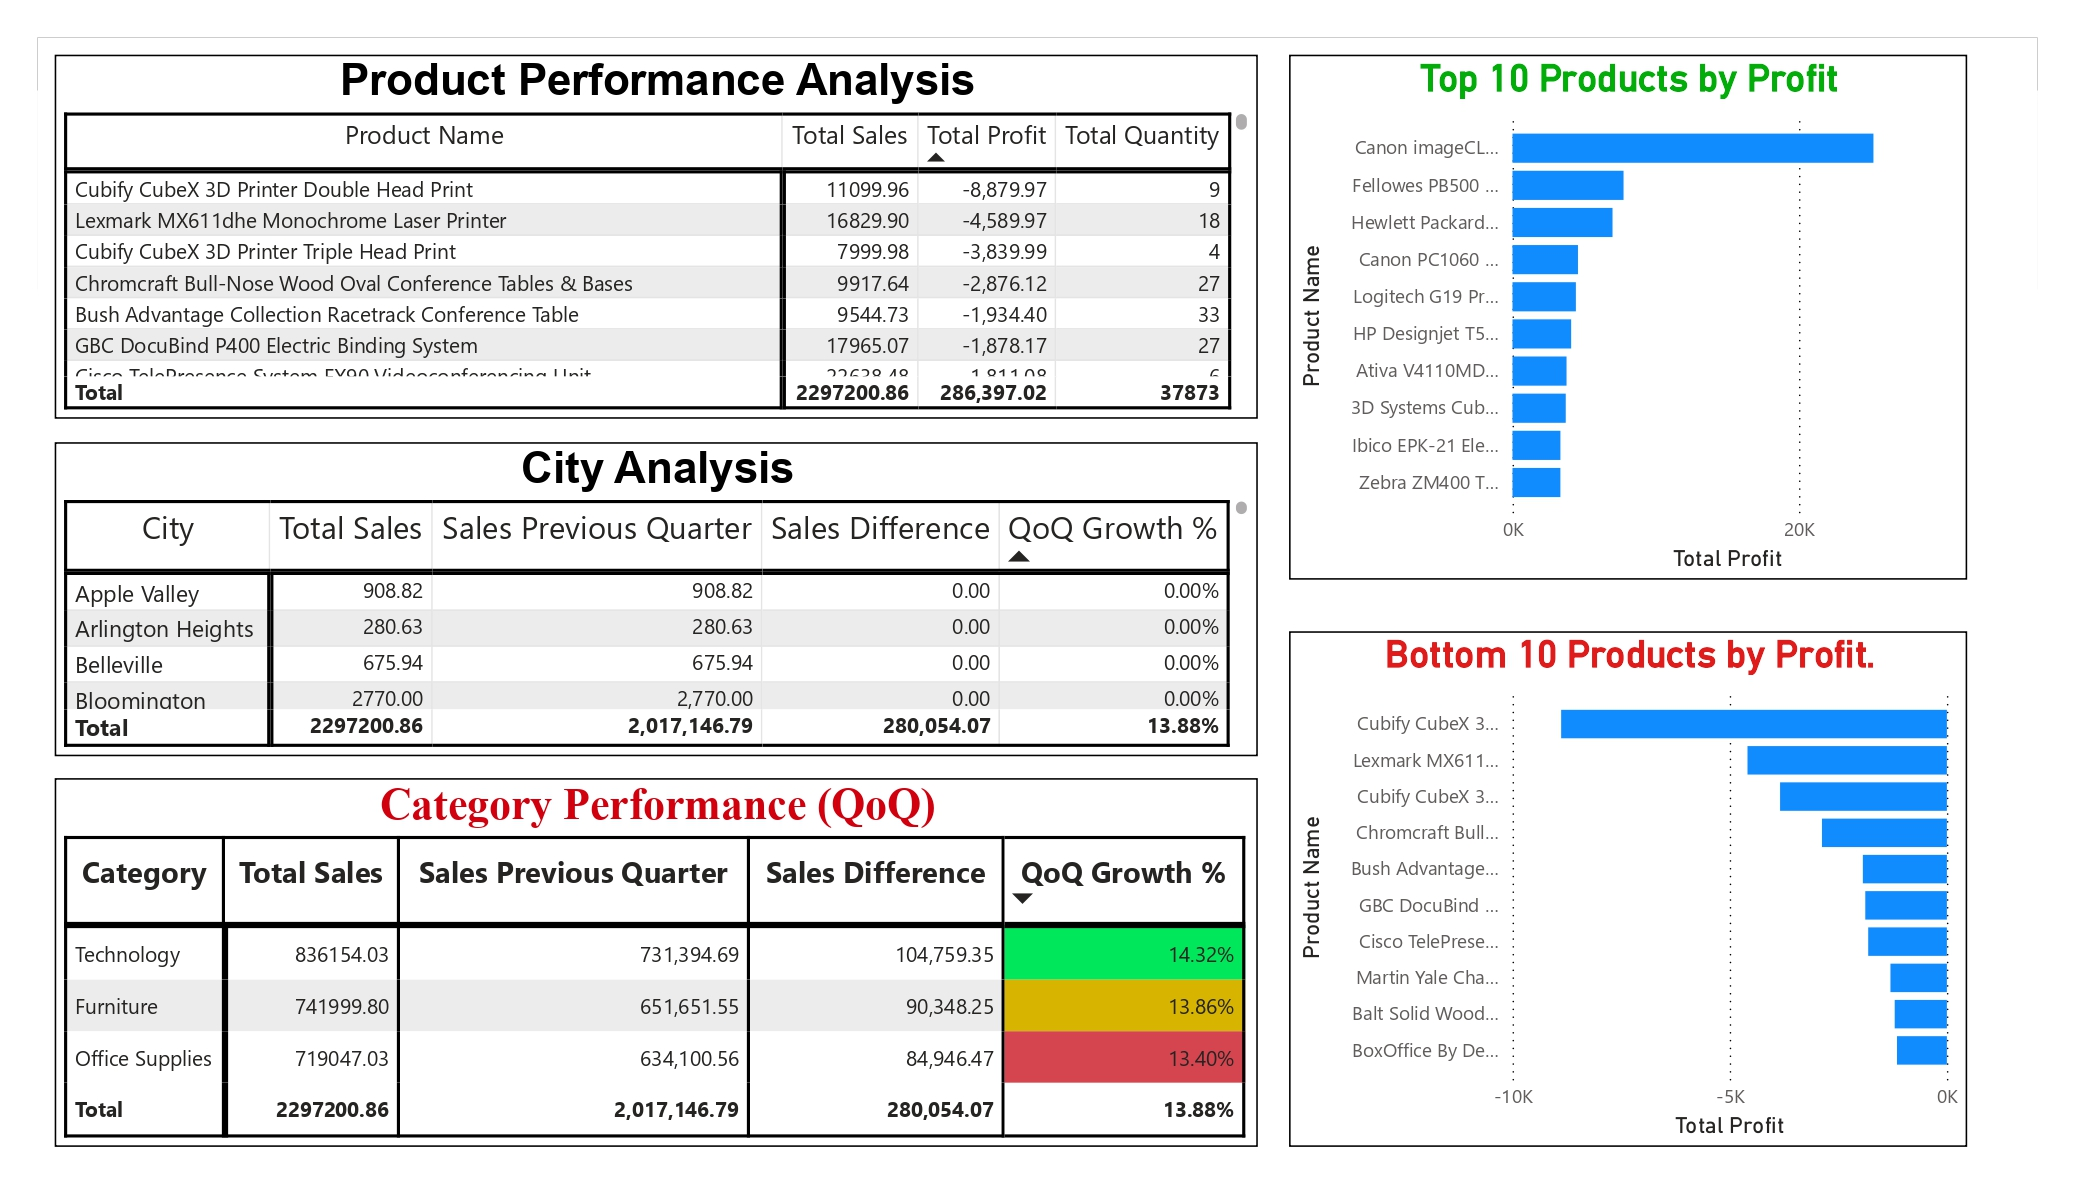

This screenshot's page, from the dashboard's own definition file:
{"tool":"powerbi","page":{"name":"Sales Analysis","canvas":[1280,720],"ordinal":1},"visuals":[{"type":"pivotTable","title":"Category Performance (QoQ)","fields":{"Rows":["DimProducts.Category"],"Values":["Measures (2).Total Sales","Measures (2).Sales Previous Quarter","Measures (2).Sales Difference","Measures (2).QoQ Growth %"]},"box":[11.2,473.5,770.2,236.3],"z":0},{"type":"pivotTable","title":"Product Performance Analysis","fields":{"Rows":["DimProducts.Product Name"],"Values":["Measures (2).Total Sales","Measures (2).Total Profit","Measures (2).Total Quantity"]},"box":[11.2,11.2,770,232.5],"z":1000},{"type":"pivotTable","title":"City Analysis","fields":{"Values":["Measures (2).Total Sales","Measures (2).Sales Previous Quarter","Measures (2).Sales Difference","Measures (2).QoQ Growth %"],"Rows":["DimCustomers.City"]},"box":[11.2,258.8,770.2,201],"z":2000},{"type":"clusteredBarChart","title":"Bottom 10 Products by Profit.","fields":{"Category":["DimProducts.Product Name"],"Y":["Measures (2).Total Profit"]},"box":[801.3,379.5,433.9,330.4],"z":3000},{"type":"clusteredBarChart","title":"Top 10 Products by Profit","fields":{"Y":["Measures (2).Total Profit"],"Category":["DimProducts.Product Name"]},"box":[801.3,11.2,433.9,335.5],"z":4000}]}

Visuals, with their boxes on the page's 1280x720 design canvas (x1, y1, x2, y2). These are canvas units, not pixel positions in the 2075x1200 screenshot, which may show the page scaled, cropped or inside an application window:
"Category Performance (QoQ)" pivotTable: crop(11, 474, 781, 710)
"Product Performance Analysis" pivotTable: crop(11, 11, 781, 244)
"City Analysis" pivotTable: crop(11, 259, 781, 460)
"Bottom 10 Products by Profit." clusteredBarChart: crop(801, 380, 1235, 710)
"Top 10 Products by Profit" clusteredBarChart: crop(801, 11, 1235, 347)
